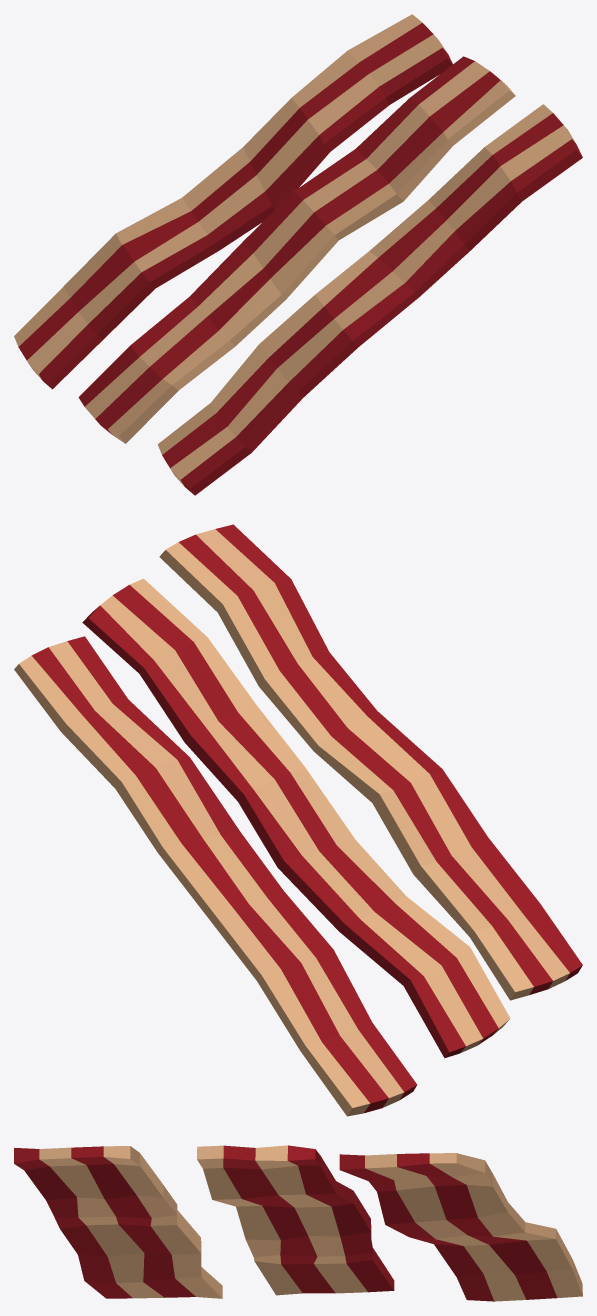
The model's file is Bacon.fbx.
3 views of the same model, one above another, from view 1: azimuth 30°, elevation 25°; view 2: azimuth 150°, elevation 25°; view 3: azimuth 270°, elevation 25° (orthographic). The views are drawn at different scales.
Visible parts, largest first — view 1: Bacon; view 2: Bacon; view 3: Bacon.
Part boxes in pixels (x1,y1,x2,y2): Bacon: (14,14,582,495); Bacon: (14,524,582,1116); Bacon: (14,1145,582,1301).
Bounding box in the file's own units: 119 × 91.16 × 127.
